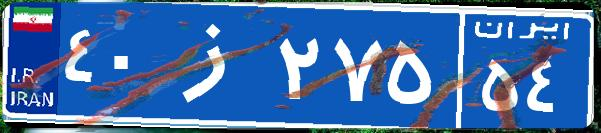0: (110, 28, 158, 105)
2: (273, 28, 330, 110)
4: (57, 26, 110, 107), (525, 38, 570, 115)
5: (385, 28, 445, 110), (475, 38, 525, 113)
7: (330, 28, 385, 110)
ز: (158, 15, 273, 115)
